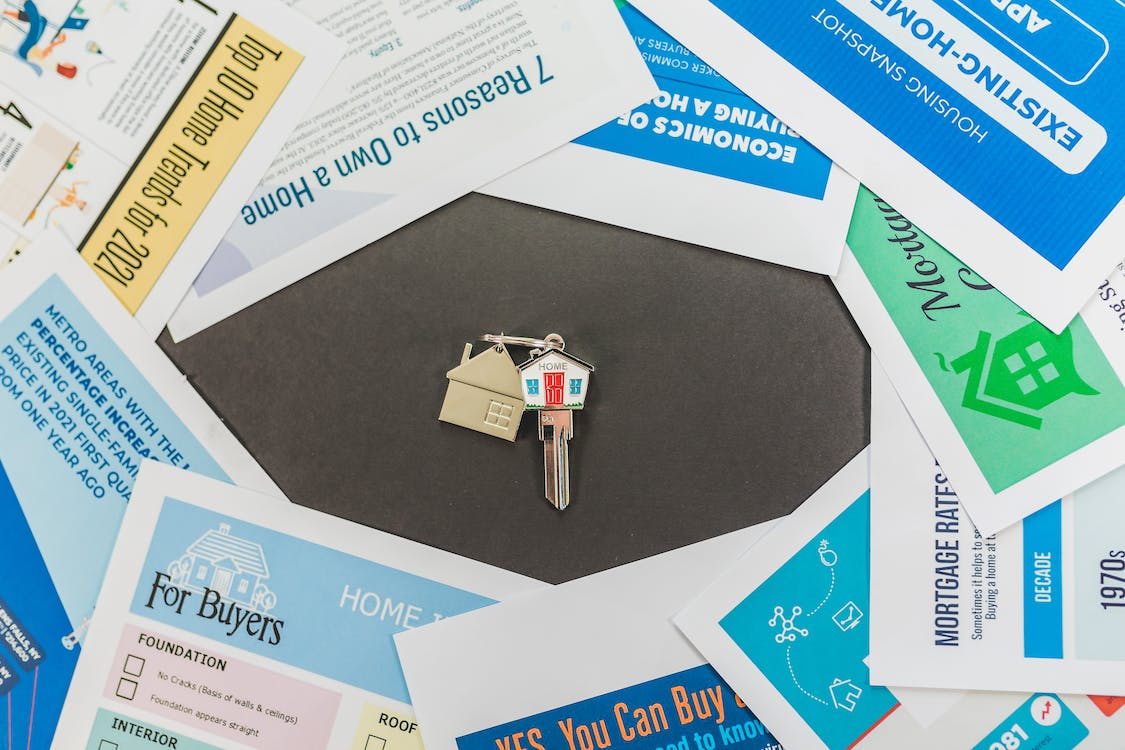key: (517, 347, 596, 515)
